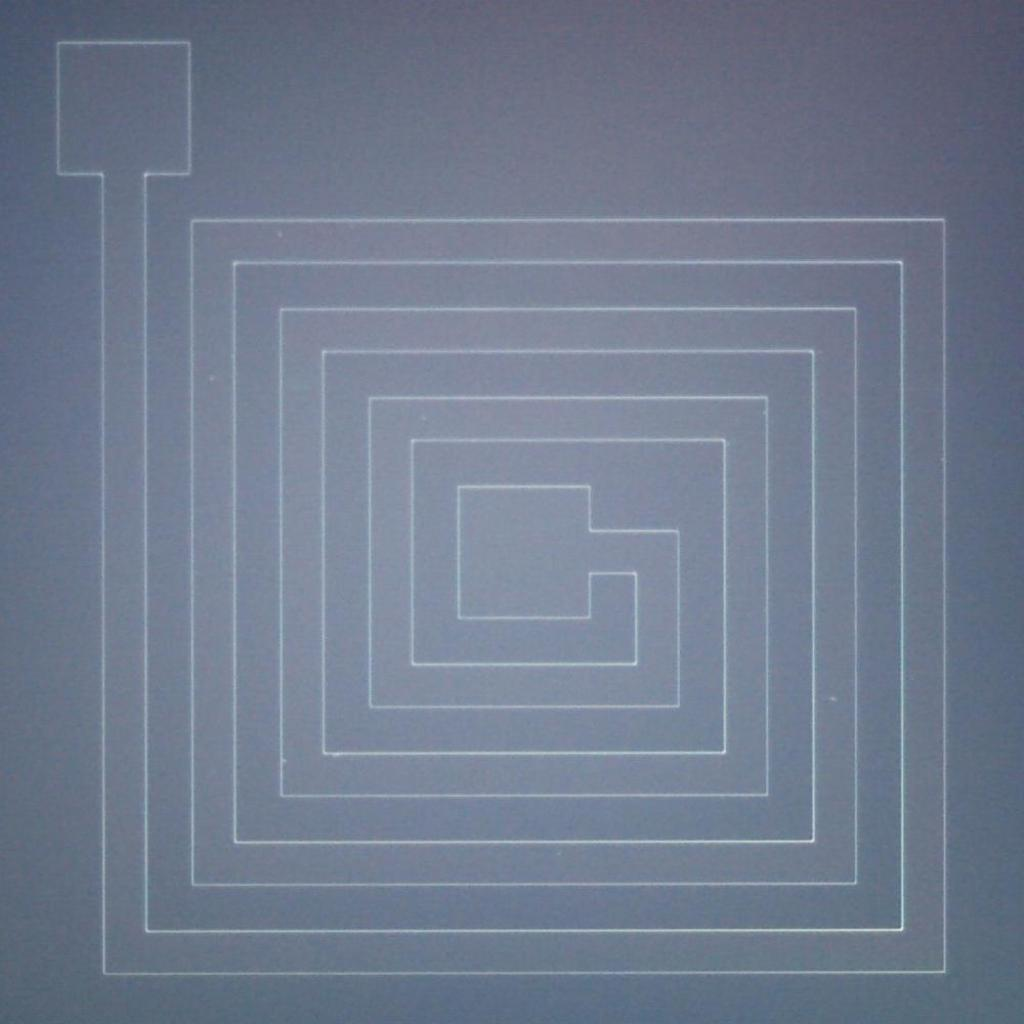dot: (277, 232, 284, 239), (830, 696, 836, 702)
